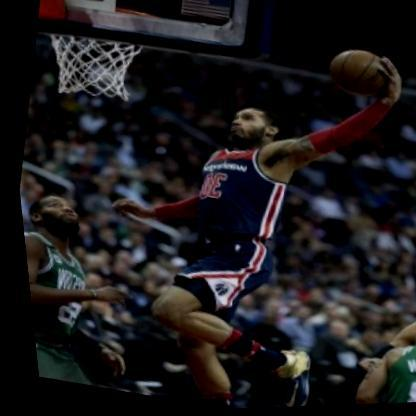basketball: (314, 41, 399, 109)
rim: (35, 8, 159, 119)
